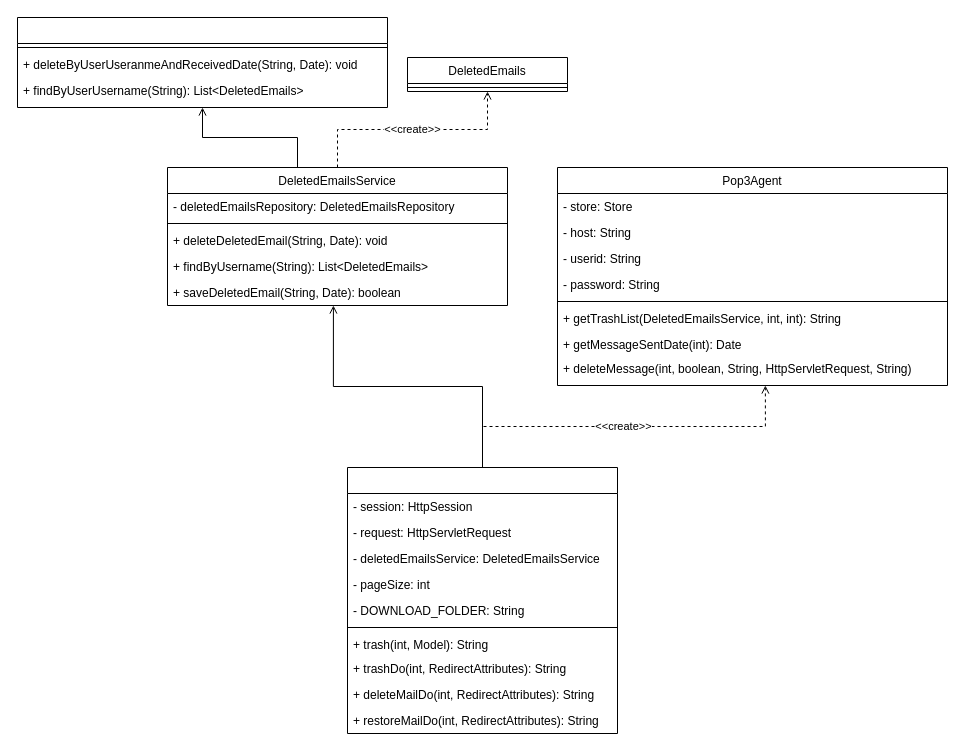
The diagram is 965 pixels wide and 754 high, and some of its shapes have lost their labels. The box of each missing label's shape, as (x1, y1, x2, y2) in pixels:
DeletedEmailsRepository: (16, 16, 388, 108)
TrashController: (346, 466, 618, 734)
